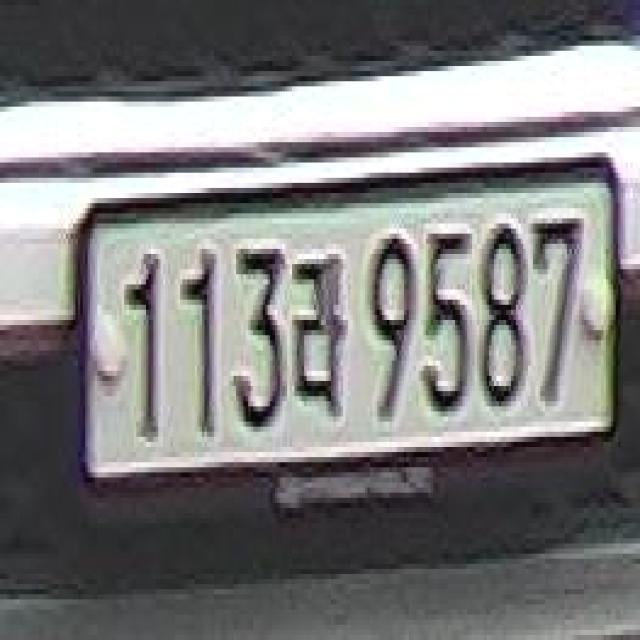illegal_plate: (75, 159, 621, 515)
